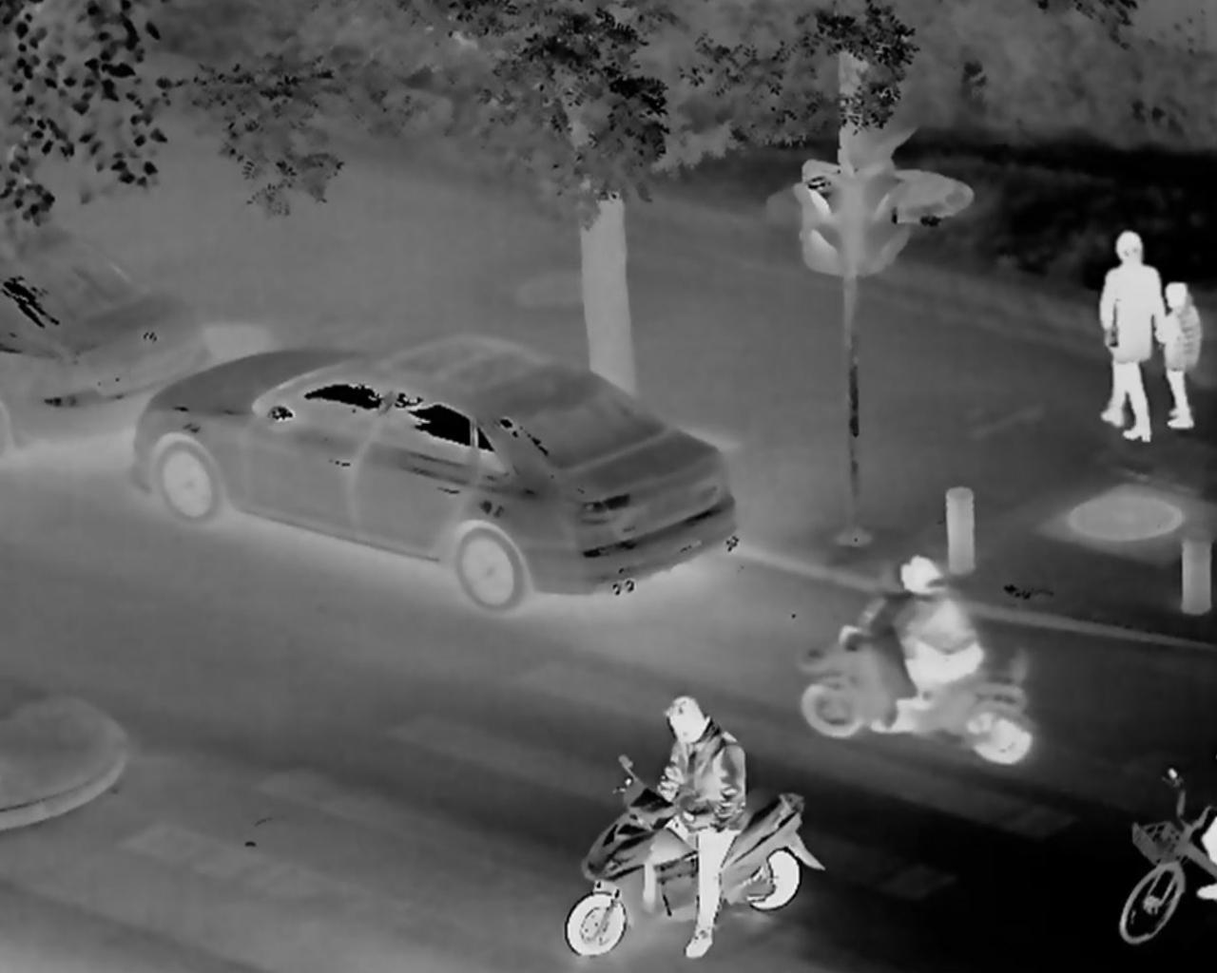person: (645, 694, 753, 962), (860, 552, 995, 744), (1098, 224, 1167, 445), (1164, 277, 1204, 438)
